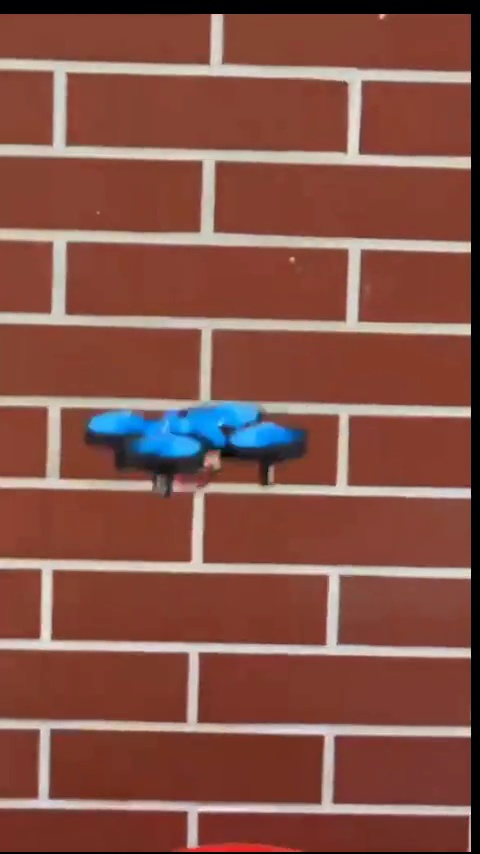drone: (89, 404, 310, 494)
